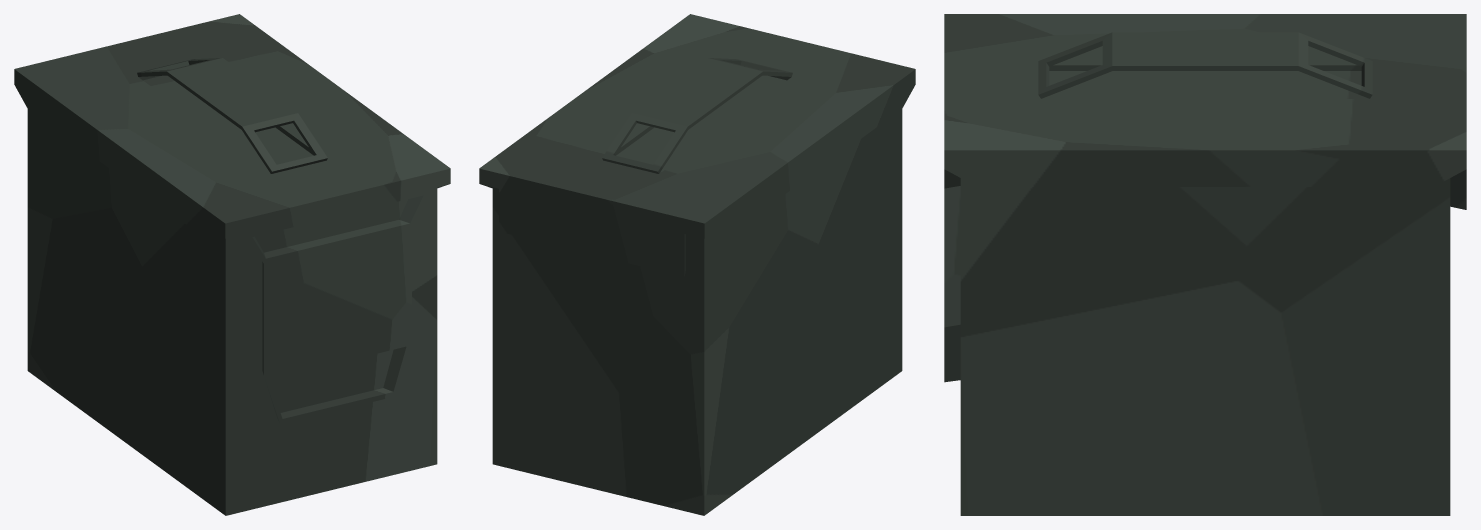
Rendered from Caja2.fbx.
The picture shows the model from 3 angles, left to right: view 1: azimuth 30°, elevation 25°; view 2: azimuth 150°, elevation 25°; view 3: azimuth 270°, elevation 25°; orthographic projection. The views are drawn at different scales.
Visible parts, largest first — view 1: Caja2; view 2: Caja2; view 3: Caja2.
Boxes of the visible parts, x1,y1,x2,y2 form: Caja2: (14,14,450,515); Caja2: (479,14,915,515); Caja2: (944,14,1466,515).
Bounding box in the file's own units: 19.73 × 27.22 × 32.
Materials: 1 (1 with a texture image).
